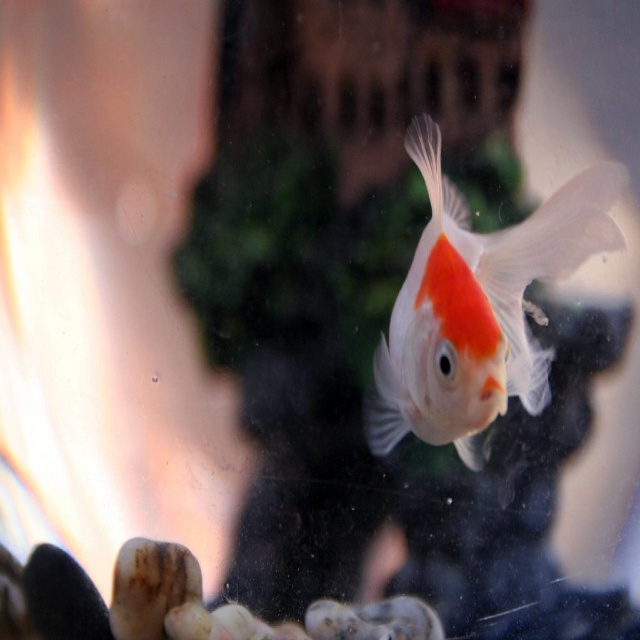Goldfish: (362, 112, 626, 469)
